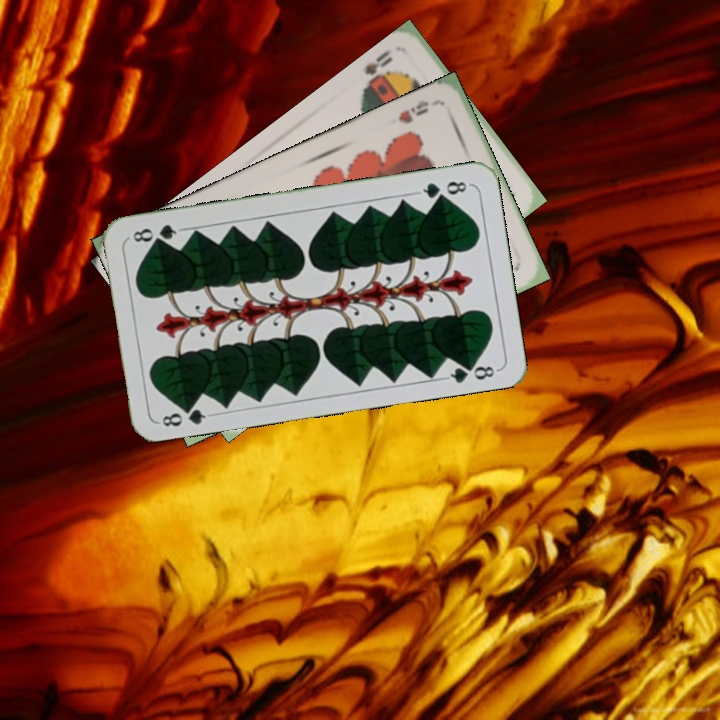G8: (158, 400, 214, 430), (414, 177, 473, 202)
H9: (393, 95, 440, 126)
SO: (358, 45, 396, 96)
